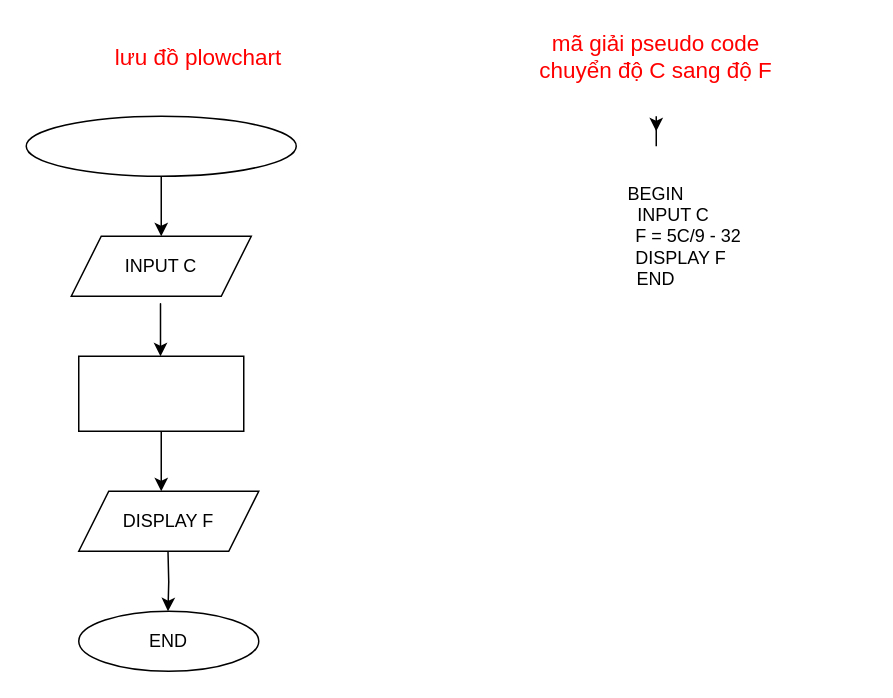
Image size: 893x698. Some labels were removed from this diagram. The centre of each missing label's shape, as x and y in pixels:
begin: the point at 160,145
F = 9C/5 + 32: the point at 160,393
